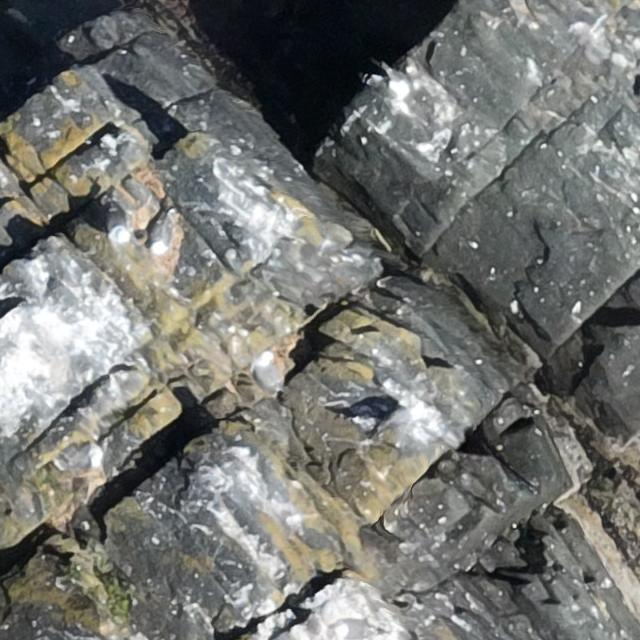umineko: (373, 403, 423, 443), (364, 63, 413, 100), (254, 346, 281, 394), (52, 446, 105, 470), (107, 204, 137, 244), (332, 620, 372, 639), (152, 221, 173, 253)
